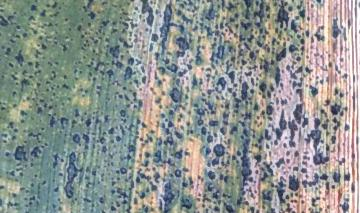tarspot: (63, 150, 82, 200), (237, 135, 253, 191), (157, 1, 175, 49), (307, 129, 330, 166), (157, 180, 176, 213), (275, 1, 293, 33), (138, 1, 156, 29), (167, 84, 186, 105), (287, 118, 298, 152), (286, 171, 302, 193), (275, 174, 286, 206), (212, 143, 226, 167), (105, 43, 124, 60), (12, 144, 29, 162), (238, 78, 250, 103), (173, 34, 191, 50), (293, 100, 305, 124), (314, 21, 325, 47), (338, 194, 352, 213), (193, 106, 207, 125), (239, 1, 252, 21), (308, 193, 324, 209), (277, 109, 288, 132), (121, 64, 134, 83), (272, 65, 282, 89), (215, 73, 229, 90), (14, 48, 26, 67), (50, 151, 61, 171), (30, 144, 42, 162), (59, 113, 71, 130), (263, 100, 275, 117), (189, 71, 199, 91), (230, 89, 241, 107), (330, 115, 341, 133), (239, 19, 253, 33), (307, 82, 320, 97), (259, 187, 272, 202), (331, 169, 343, 185), (310, 115, 322, 131), (164, 62, 180, 74), (194, 45, 203, 66), (79, 1, 93, 14), (179, 197, 193, 210), (288, 41, 300, 56), (275, 47, 287, 62), (221, 201, 236, 213), (70, 131, 81, 147), (152, 148, 163, 164), (294, 86, 305, 102), (19, 77, 33, 89), (59, 41, 71, 55), (217, 123, 229, 137), (46, 114, 57, 129), (128, 175, 137, 193), (99, 143, 111, 156), (175, 21, 187, 34), (205, 117, 218, 129), (80, 130, 91, 144), (297, 6, 308, 20), (248, 101, 262, 112), (336, 154, 347, 168), (33, 56, 42, 72), (117, 164, 129, 176), (342, 171, 354, 183), (321, 96, 333, 108), (274, 156, 286, 168), (221, 109, 233, 121), (206, 168, 217, 181), (106, 124, 117, 137), (172, 167, 183, 180), (251, 151, 262, 164), (149, 31, 159, 45), (98, 16, 112, 26), (226, 69, 236, 83), (171, 148, 185, 158), (96, 193, 106, 207), (125, 143, 136, 155), (124, 55, 136, 66), (318, 170, 329, 182), (204, 181, 215, 193), (304, 63, 314, 76), (237, 57, 250, 67), (106, 66, 115, 80), (140, 118, 149, 132), (174, 130, 185, 141), (89, 168, 100, 179), (278, 96, 289, 107), (17, 108, 29, 118), (153, 47, 161, 62), (174, 49, 186, 59), (263, 126, 271, 141), (257, 80, 267, 92), (179, 178, 189, 190), (39, 41, 49, 52), (9, 72, 19, 83), (203, 145, 213, 156), (259, 171, 269, 182), (74, 21, 83, 33), (229, 123, 238, 135), (205, 85, 213, 98), (137, 188, 145, 201), (303, 26, 311, 39), (51, 184, 61, 194), (83, 117, 93, 127), (294, 31, 304, 41), (71, 107, 80, 118), (118, 107, 127, 118), (38, 9, 49, 18), (139, 73, 148, 84), (294, 64, 303, 75), (142, 149, 151, 160), (246, 34, 257, 43), (343, 121, 350, 135), (108, 204, 120, 212), (134, 114, 142, 126), (230, 151, 238, 163), (115, 133, 122, 146), (35, 104, 44, 114), (28, 2, 37, 12), (26, 58, 35, 68), (159, 111, 168, 121), (248, 48, 255, 60), (3, 149, 12, 158), (152, 170, 161, 179), (291, 164, 301, 172), (263, 141, 271, 151), (20, 29, 28, 39), (186, 60, 193, 71), (17, 119, 29, 125), (200, 126, 208, 135), (166, 121, 175, 129), (109, 179, 118, 187), (13, 22, 22, 30), (7, 60, 14, 70), (330, 134, 337, 144), (272, 137, 279, 147), (253, 167, 260, 177)
